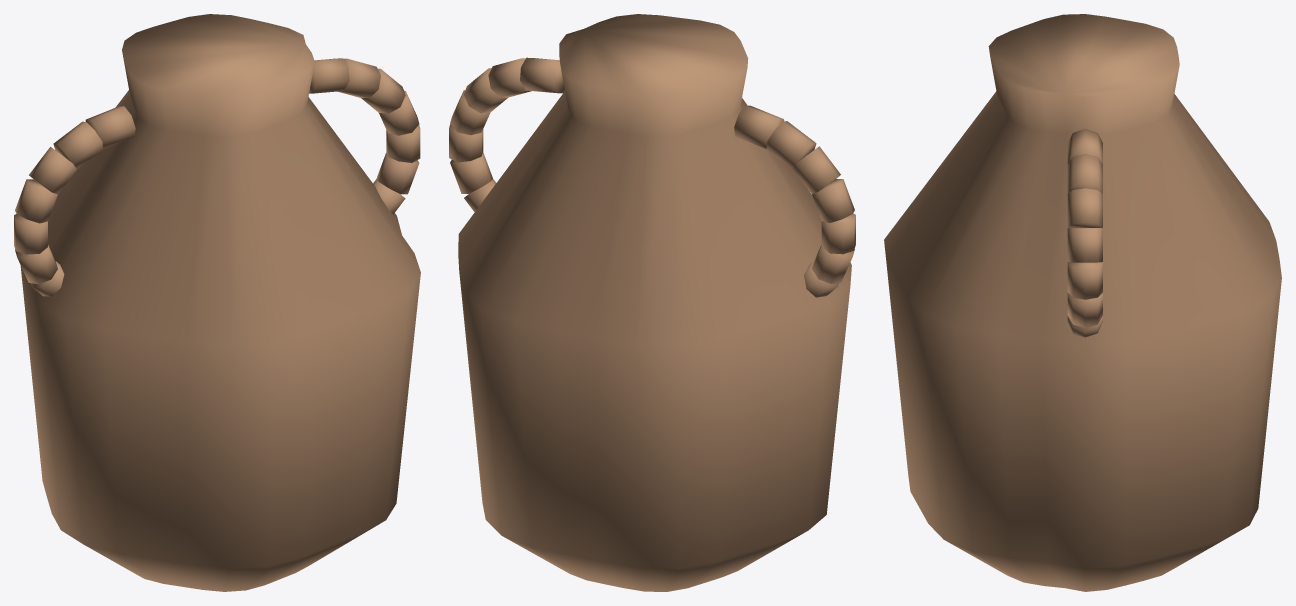
The model's file is SM_Jar.fbx.
3 renders of one model, left to right at view 1: azimuth 30°, elevation 25°; view 2: azimuth 150°, elevation 25°; view 3: azimuth 270°, elevation 25°, orthographic.
Parts seen in each view (by area): view 1: SM_Jar; view 2: SM_Jar; view 3: SM_Jar.
Part boxes in pixels (x1,y1,x2,y2): SM_Jar: (14, 14, 420, 591); SM_Jar: (449, 14, 855, 591); SM_Jar: (884, 14, 1281, 591).
Size of the model in its own units: 57.97 by 49.61 by 68.
